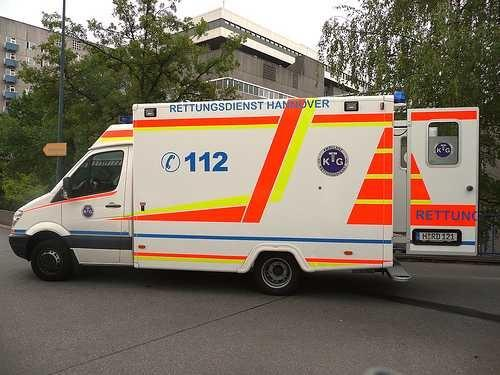car: (7, 90, 480, 295)
